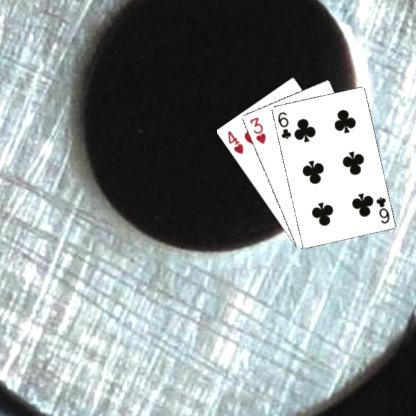3H: (247, 114, 267, 145)
4H: (224, 128, 245, 155)
6C: (275, 108, 292, 140), (373, 194, 390, 225)
